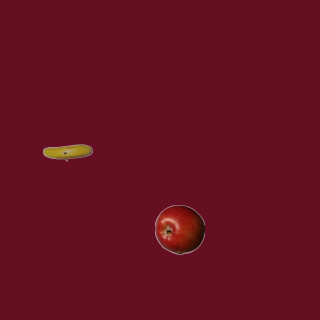Apple Braeburn: (154, 204, 204, 254)
Banana: (42, 127, 92, 177)
